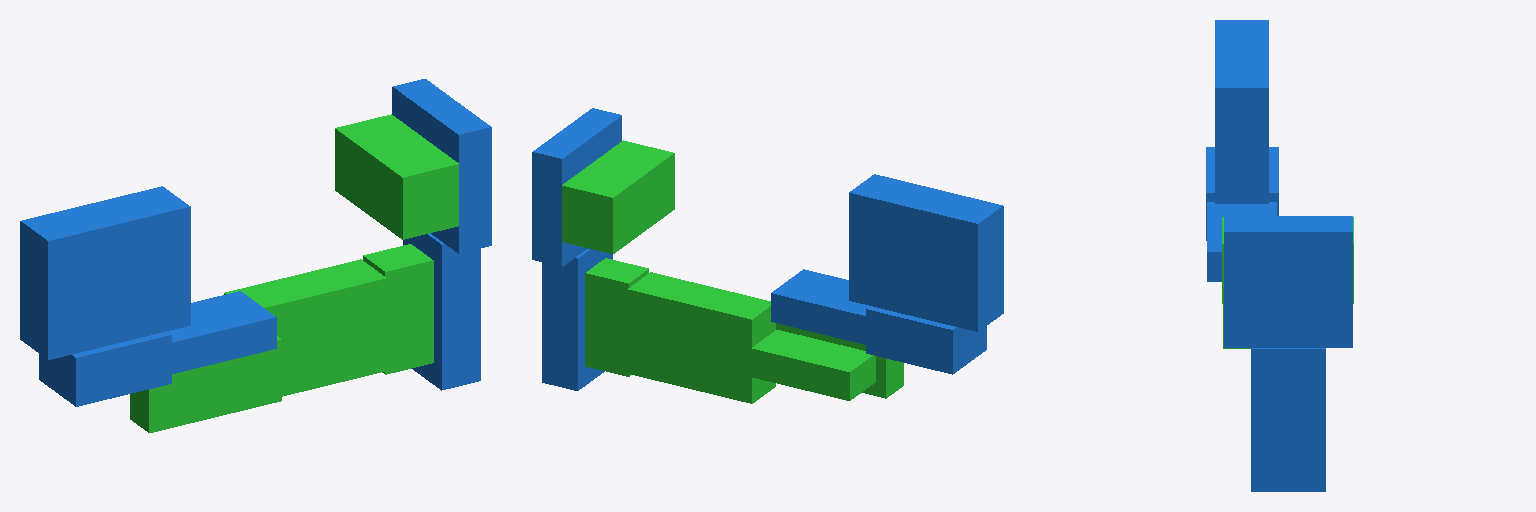
The robot description file, URDF, robot "robot":
<robot name = "robot">
    <link name="Link0">
        <inertial>
            <origin xyz="0 0 2" rpy="0 0 0"/>
            <mass value="0.25135809883396937" />
            <inertia ixx="100" ixy="0" ixz="0" iyy="100" iyz="0" izz="100" />
        </inertial>
        <visual>
            <origin xyz="0 0 2" rpy="0 0 0"/>
            <geometry>
                <box size="0.48785568724121986 1.0081806234131274 0.5110497314046866" />
            </geometry>
            <material name="Sensor">
                <color rgba="0.239 0.875 0.282 1.0"/>
            </material>
        </visual>
        <collision>
            <origin xyz="0 0 2" rpy="0 0 0"/>
            <geometry>
                <box size="0.48785568724121986 1.0081806234131274 0.5110497314046866" />
            </geometry>
        </collision>
    </link>
    <joint name="Link0_Link1" type="revolute">
       <parent link="Link0"/>
       <child  link="Link1"/>
       <origin rpy="0 0 0" xyz="0.24392784362060993 0 2" />
       <axis xyz="1 0 0"/>
       <limit effort="0.0" lower="-3.14159" upper="3.14159" velocity="0.0"/>
    </joint>
    <link name="Link1">
        <inertial>
            <origin xyz="0.14154092170375782 0 0" rpy="0 0 0"/>
            <mass value="0.2717708624000702" />
            <inertia ixx="100" ixy="0" ixz="0" iyy="100" iyz="0" izz="100" />
        </inertial>
        <visual>
            <origin xyz="0.14154092170375782 0 0" rpy="0 0 0"/>
            <geometry>
                <box size="0.28308184340751563 0.9834477000687659 0.9762018097952009" />
            </geometry>
            <material name="No Sensor">
                <color rgba="0.184 0.553 0.933 1.0"/>
            </material>
        </visual>
        <collision>
            <origin xyz="0.14154092170375782 0 0" rpy="0 0 0"/>
            <geometry>
                <box size="0.28308184340751563 0.9834477000687659 0.9762018097952009" />
            </geometry>
        </collision>
    </link>
    <joint name="Link1_Link2" type="revolute">
       <parent link="Link1"/>
       <child  link="Link2"/>
       <origin rpy="0 0 0" xyz="0.14154092170375782 0.0 -0.48810090489760044" />
       <axis xyz="0 0 1"/>
       <limit effort="0.0" lower="-3.14159" upper="3.14159" velocity="0.0"/>
    </joint>
    <link name="Link2">
        <inertial>
            <origin xyz="0.0 0.0 -0.5991826450945112" rpy="0 0 0"/>
            <mass value="0.2342542247709553" />
            <inertia ixx="100" ixy="0" ixz="0" iyy="100" iyz="0" izz="100" />
        </inertial>
        <visual>
            <origin xyz="0.0 0.0 -0.5991826450945112" rpy="0 0 0"/>
            <geometry>
                <box size="0.33895911096105347 0.5767012579296016 1.1983652901890225" />
            </geometry>
            <material name="No Sensor">
                <color rgba="0.184 0.553 0.933 1.0"/>
            </material>
        </visual>
        <collision>
            <origin xyz="0.0 0.0 -0.5991826450945112" rpy="0 0 0"/>
            <geometry>
                <box size="0.33895911096105347 0.5767012579296016 1.1983652901890225" />
            </geometry>
        </collision>
    </link>
    <joint name="Link2_Link3" type="revolute">
       <parent link="Link2"/>
       <child  link="Link3"/>
       <origin rpy="0 0 0" xyz="-0.16947955548052673 0.0 -0.5991826450945112" />
       <axis xyz="1 0 0"/>
       <limit effort="0.0" lower="-3.14159" upper="3.14159" velocity="0.0"/>
    </joint>
    <link name="Link3">
        <inertial>
            <origin xyz="-0.20647449929109224 0.0 0.0" rpy="0 0 0"/>
            <mass value="0.11742406269960429" />
            <inertia ixx="100" ixy="0" ixz="0" iyy="100" iyz="0" izz="100" />
        </inertial>
        <visual>
            <origin xyz="-0.20647449929109224 0.0 0.0" rpy="0 0 0"/>
            <geometry>
                <box size="0.4129489985821845 0.3366724726529101 0.8446038881116259" />
            </geometry>
            <material name="Sensor">
                <color rgba="0.239 0.875 0.282 1.0"/>
            </material>
        </visual>
        <collision>
            <origin xyz="-0.20647449929109224 0.0 0.0" rpy="0 0 0"/>
            <geometry>
                <box size="0.4129489985821845 0.3366724726529101 0.8446038881116259" />
            </geometry>
        </collision>
    </link>
    <joint name="Link3_Link4" type="revolute">
       <parent link="Link3"/>
       <child  link="Link4"/>
       <origin rpy="0 0 0" xyz="-0.4129489985821845 0.0 0.0" />
       <axis xyz="0 1 0"/>
       <limit effort="0.0" lower="-3.14159" upper="3.14159" velocity="0.0"/>
    </joint>
    <link name="Link4">
        <inertial>
            <origin xyz="-0.590494932672986 0.0 0.0" rpy="0 0 0"/>
            <mass value="0.34582638874142746" />
            <inertia ixx="100" ixy="0" ixz="0" iyy="100" iyz="0" izz="100" />
        </inertial>
        <visual>
            <origin xyz="-0.590494932672986 0.0 0.0" rpy="0 0 0"/>
            <geometry>
                <box size="1.180989865345972 0.3837783077430914 0.7630122936600178" />
            </geometry>
            <material name="Sensor">
                <color rgba="0.239 0.875 0.282 1.0"/>
            </material>
        </visual>
        <collision>
            <origin xyz="-0.590494932672986 0.0 0.0" rpy="0 0 0"/>
            <geometry>
                <box size="1.180989865345972 0.3837783077430914 0.7630122936600178" />
            </geometry>
        </collision>
    </link>
    <joint name="Link4_Link5" type="revolute">
       <parent link="Link4"/>
       <child  link="Link5"/>
       <origin rpy="0 0 0" xyz="-1.180989865345972 0.0 0.0" />
       <axis xyz="1 0 0"/>
       <limit effort="0.0" lower="-3.14159" upper="3.14159" velocity="0.0"/>
    </joint>
    <link name="Link5">
        <inertial>
            <origin xyz="-0.4669996070584788 0.0 0.0" rpy="0 0 0"/>
            <mass value="0.10293343638434421" />
            <inertia ixx="100" ixy="0" ixz="0" iyy="100" iyz="0" izz="100" />
        </inertial>
        <visual>
            <origin xyz="-0.4669996070584788 0.0 0.0" rpy="0 0 0"/>
            <geometry>
                <box size="0.9339992141169576 0.4218297596068271 0.2612598934921895" />
            </geometry>
            <material name="Sensor">
                <color rgba="0.239 0.875 0.282 1.0"/>
            </material>
        </visual>
        <collision>
            <origin xyz="-0.4669996070584788 0.0 0.0" rpy="0 0 0"/>
            <geometry>
                <box size="0.9339992141169576 0.4218297596068271 0.2612598934921895" />
            </geometry>
        </collision>
    </link>
    <joint name="Link5_Link6" type="revolute">
       <parent link="Link5"/>
       <child  link="Link6"/>
       <origin rpy="0 0 0" xyz="-0.4669996070584788 -0.21091487980341356 0.0" />
       <axis xyz="0 1 0"/>
       <limit effort="0.0" lower="-3.14159" upper="3.14159" velocity="0.0"/>
    </joint>
    <link name="Link6">
        <inertial>
            <origin xyz="0.0 -0.14261563532667976 0.0" rpy="0 0 0"/>
            <mass value="0.16467163646919936" />
            <inertia ixx="100" ixy="0" ixz="0" iyy="100" iyz="0" izz="100" />
        </inertial>
        <visual>
            <origin xyz="0.0 -0.14261563532667976 0.0" rpy="0 0 0"/>
            <geometry>
                <box size="1.1376831304797248 0.2852312706533595 0.5074582838076745" />
            </geometry>
            <material name="Sensor">
                <color rgba="0.239 0.875 0.282 1.0"/>
            </material>
        </visual>
        <collision>
            <origin xyz="0.0 -0.14261563532667976 0.0" rpy="0 0 0"/>
            <geometry>
                <box size="1.1376831304797248 0.2852312706533595 0.5074582838076745" />
            </geometry>
        </collision>
    </link>
    <joint name="Link6_Link7" type="revolute">
       <parent link="Link6"/>
       <child  link="Link7"/>
       <origin rpy="0 0 0" xyz="0.0 -0.14261563532667976 0.2537291419038373" />
       <axis xyz="1 0 0"/>
       <limit effort="0.0" lower="-3.14159" upper="3.14159" velocity="0.0"/>
    </joint>
    <link name="Link7">
        <inertial>
            <origin xyz="0.0 0.0 0.12985379828740828" rpy="0 0 0"/>
            <mass value="0.1254665359095591" />
            <inertia ixx="100" ixy="0" ixz="0" iyy="100" iyz="0" izz="100" />
        </inertial>
        <visual>
            <origin xyz="0.0 0.0 0.12985379828740828" rpy="0 0 0"/>
            <geometry>
                <box size="0.9016840317406685 0.5357829333557622 0.25970759657481657" />
            </geometry>
            <material name="No Sensor">
                <color rgba="0.184 0.553 0.933 1.0"/>
            </material>
        </visual>
        <collision>
            <origin xyz="0.0 0.0 0.12985379828740828" rpy="0 0 0"/>
            <geometry>
                <box size="0.9016840317406685 0.5357829333557622 0.25970759657481657" />
            </geometry>
        </collision>
    </link>
    <joint name="Link7_Link8" type="revolute">
       <parent link="Link7"/>
       <child  link="Link8"/>
       <origin rpy="0 0 0" xyz="-0.45084201587033423 0.0 0.12985379828740828" />
       <axis xyz="0 0 1"/>
       <limit effort="0.0" lower="-3.14159" upper="3.14159" velocity="0.0"/>
    </joint>
    <link name="Link8">
        <inertial>
            <origin xyz="-0.4127259172324912 0.0 0.0" rpy="0 0 0"/>
            <mass value="0.1848693842576637" />
            <inertia ixx="100" ixy="0" ixz="0" iyy="100" iyz="0" izz="100" />
        </inertial>
        <visual>
            <origin xyz="-0.4127259172324912 0.0 0.0" rpy="0 0 0"/>
            <geometry>
                <box size="0.8254518344649824 0.5577922783347106 0.4015140618521231" />
            </geometry>
            <material name="No Sensor">
                <color rgba="0.184 0.553 0.933 1.0"/>
            </material>
        </visual>
        <collision>
            <origin xyz="-0.4127259172324912 0.0 0.0" rpy="0 0 0"/>
            <geometry>
                <box size="0.8254518344649824 0.5577922783347106 0.4015140618521231" />
            </geometry>
        </collision>
    </link>
    <joint name="Link8_Link9" type="revolute">
       <parent link="Link8"/>
       <child  link="Link9"/>
       <origin rpy="0 0 0" xyz="-0.4127259172324912 0.0 0.20075703092606156" />
       <axis xyz="1 0 0"/>
       <limit effort="0.0" lower="-3.14159" upper="3.14159" velocity="0.0"/>
    </joint>
    <link name="Link9">
        <inertial>
            <origin xyz="0.0 0.0 0.48861772057163855" rpy="0 0 0"/>
            <mass value="0.4952616566542872" />
            <inertia ixx="100" ixy="0" ixz="0" iyy="100" iyz="0" izz="100" />
        </inertial>
        <visual>
            <origin xyz="0.0 0.0 0.48861772057163855" rpy="0 0 0"/>
            <geometry>
                <box size="1.22128331173258 0.4149722678989525 0.9772354411432771" />
            </geometry>
            <material name="No Sensor">
                <color rgba="0.184 0.553 0.933 1.0"/>
            </material>
        </visual>
        <collision>
            <origin xyz="0.0 0.0 0.48861772057163855" rpy="0 0 0"/>
            <geometry>
                <box size="1.22128331173258 0.4149722678989525 0.9772354411432771" />
            </geometry>
        </collision>
    </link>
</robot>

--- Facts derived from the render (not from the file) ---
3 views of the same robot in one strip: view 1: azimuth 30°, elevation 25°; view 2: azimuth 150°, elevation 25°; view 3: azimuth 270°, elevation 25° (orthographic).
Robot: robot — 10 links, 9 joints (9 revolute); root link Link0; default pose: every joint at zero.
Links seen in each view (by area): view 1: Link9, Link4, Link0, Link1, Link6, Link2, Link8, Link3, Link7; view 2: Link9, Link4, Link0, Link1, Link5, Link2, Link8, Link3, Link7, Link6; view 3: Link1, Link2, Link9, Link7, Link8.
Link boxes in pixels (x1,y1,x2,y2): Link9: (20,186,190,359); Link4: (224,259,386,396); Link0: (335,114,458,239); Link1: (392,79,491,253); Link6: (130,336,281,432); Link2: (403,233,480,390); Link8: (39,331,171,406); Link3: (363,244,433,374); Link7: (168,291,276,373); Link9: (849,174,1003,331); Link4: (627,272,775,403); Link0: (562,140,674,253); Link1: (532,108,621,266); Link5: (751,330,875,400); Link2: (542,249,612,390); Link8: (866,306,986,374); Link3: (585,258,648,376); Link7: (771,269,868,344); Link6: (776,323,903,398); Link1: (1224,216,1352,347); Link2: (1251,348,1325,491); Link9: (1215,20,1268,203); Link7: (1207,202,1276,281); Link8: (1206,147,1278,240).
Size in the robot's own frame: 3.87 by 1.14 by 2.17 metres.
Geometry: primitives only (box / cylinder / sphere), no mesh files.